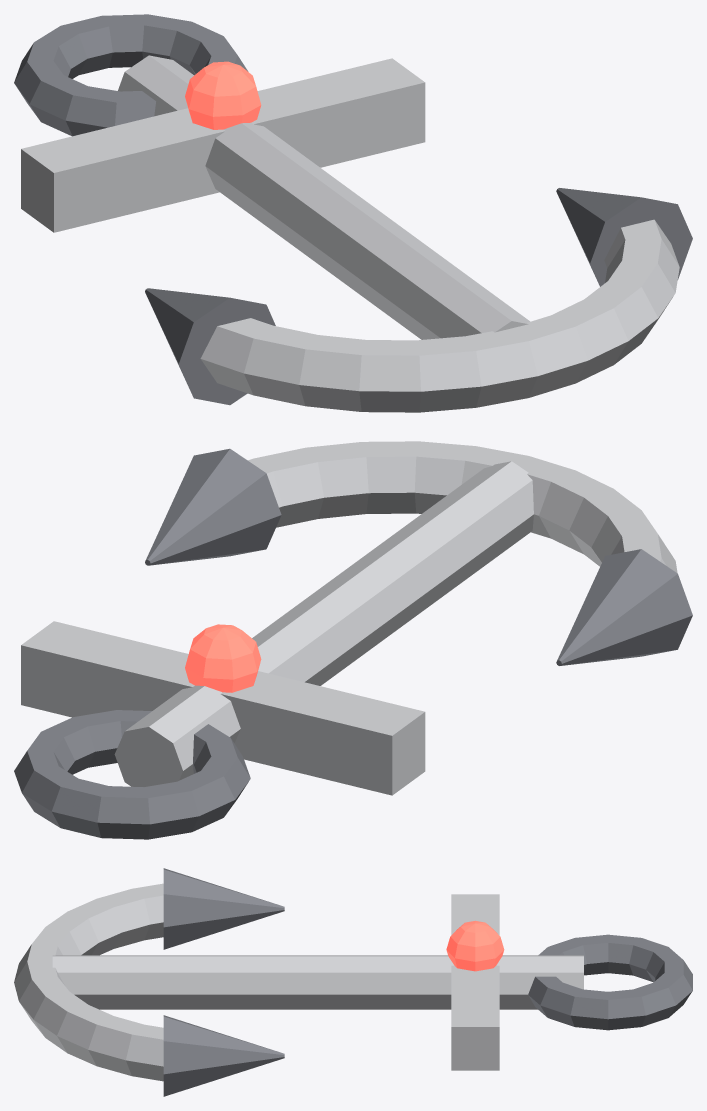
Rendered from anchor_held.gltf.
3 renders of one model, top to bottom at view 1: azimuth 30°, elevation 25°; view 2: azimuth 150°, elevation 25°; view 3: azimuth 270°, elevation 25°, orthographic. The views are drawn at different scales.
Parts seen in each view (by area): view 1: helpers_anchor_held; view 2: helpers_anchor_held; view 3: helpers_anchor_held.
Part boxes in pixels (x1=…): helpers_anchor_held: x1=14, y1=14, x2=692, y2=412; helpers_anchor_held: x1=14, y1=441, x2=692, y2=839; helpers_anchor_held: x1=14, y1=868, x2=692, y2=1096.
Size of the model in its own units: 0.18 by 0.045 by 0.2811.
